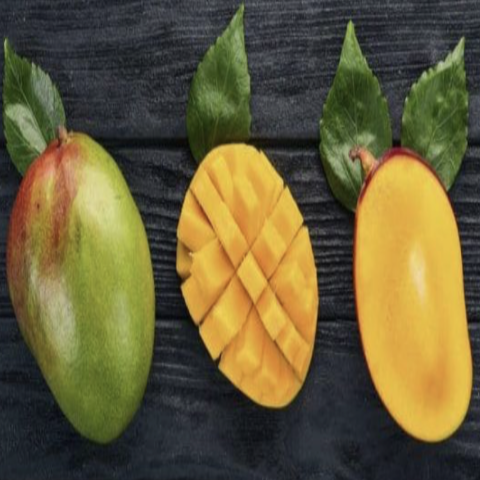mango: (1, 114, 163, 458), (168, 141, 321, 455), (338, 130, 479, 450)
